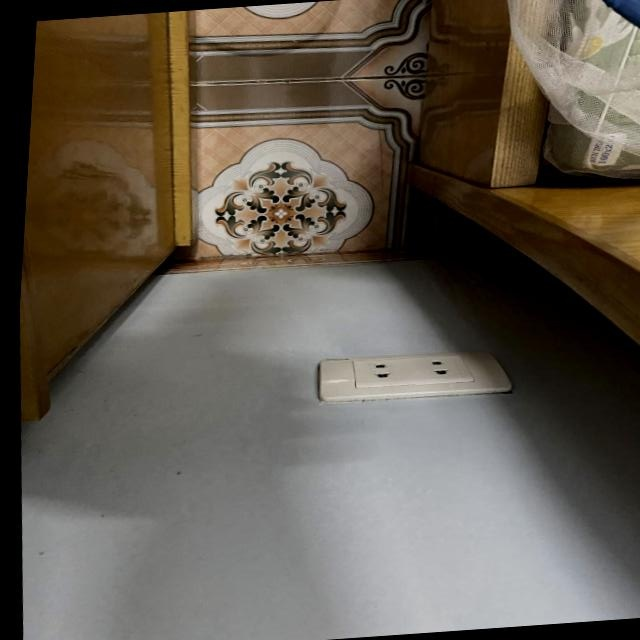outlet: (313, 347, 514, 408)
